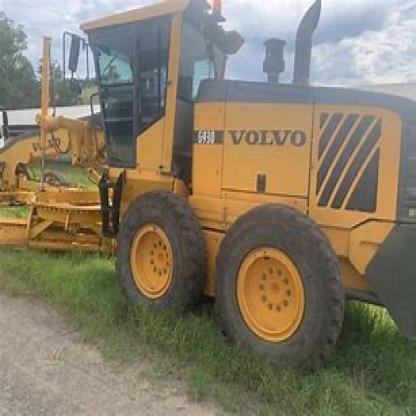bull_dozer/loader/grader: (6, 4, 414, 372)
